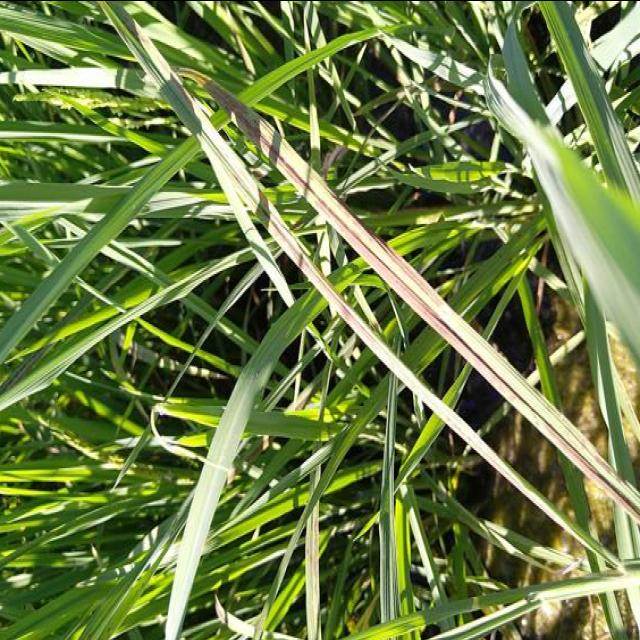Leaf Streak: (124, 8, 549, 514), (190, 74, 640, 527)
